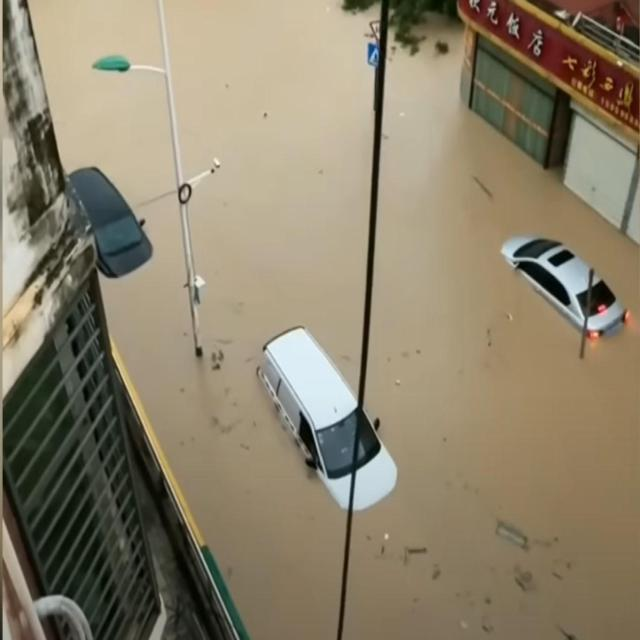water: (26, 2, 376, 636), (345, 21, 639, 637)
